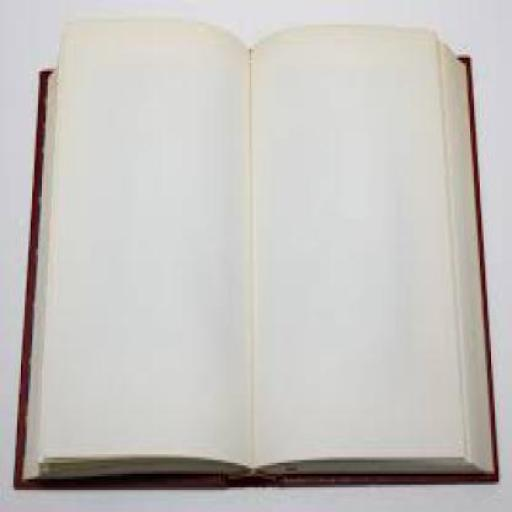paper: (9, 27, 499, 487), (251, 22, 491, 468), (32, 19, 254, 468)
